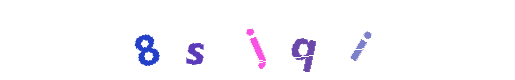8: (106, 0, 186, 80)
I: (250, 0, 330, 80)
J: (218, 0, 298, 80)
Q: (222, 0, 302, 80)
S: (217, 0, 297, 80)
